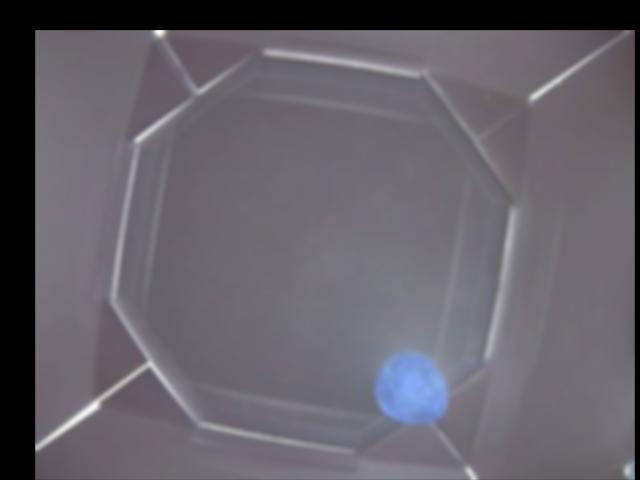Potato: (379, 353, 452, 428)
